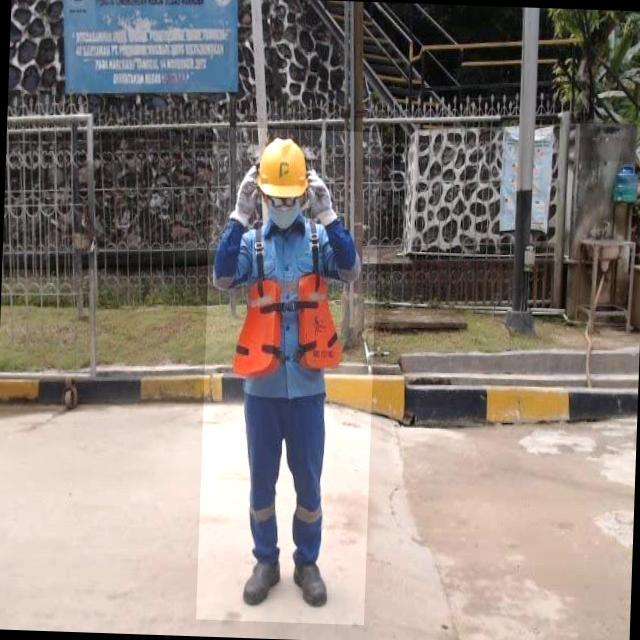Gloves: (224, 159, 267, 231), (300, 164, 342, 230)
Helmet: (256, 134, 311, 199)
Person: (203, 114, 369, 631)
Safety Boot: (288, 555, 332, 611), (240, 555, 283, 607)
Safety Vest: (232, 278, 346, 378)
